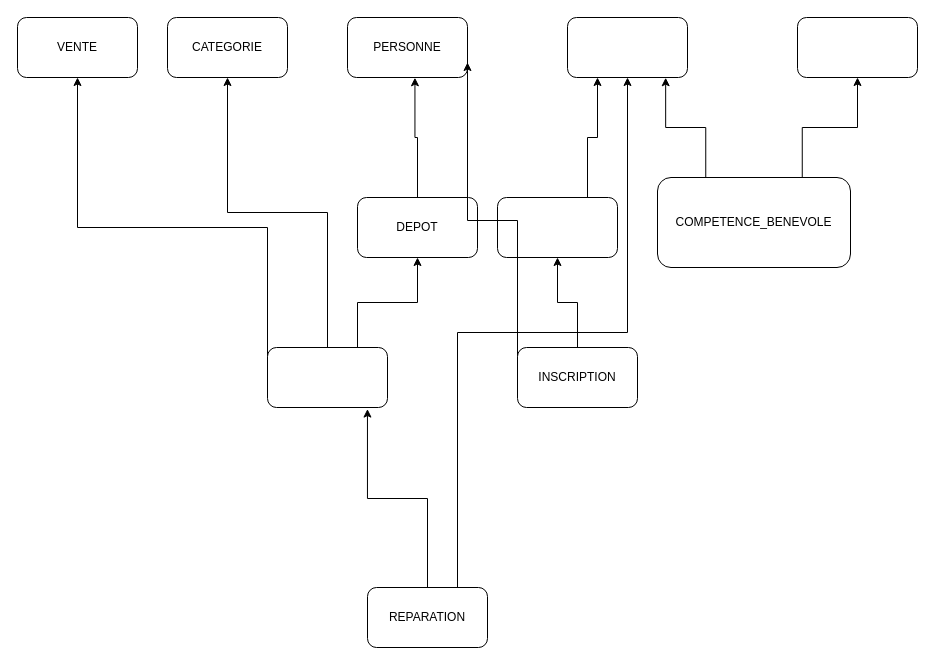
Image size: 935x665. Some labels were removed from this diagram. Each missing label, with the box of its shape:
1.OBJET: (266, 346, 388, 408)
ATELIER: (496, 196, 618, 258)
BENEVOLE: (566, 16, 688, 78)
COMPETENCE: (796, 16, 918, 78)
